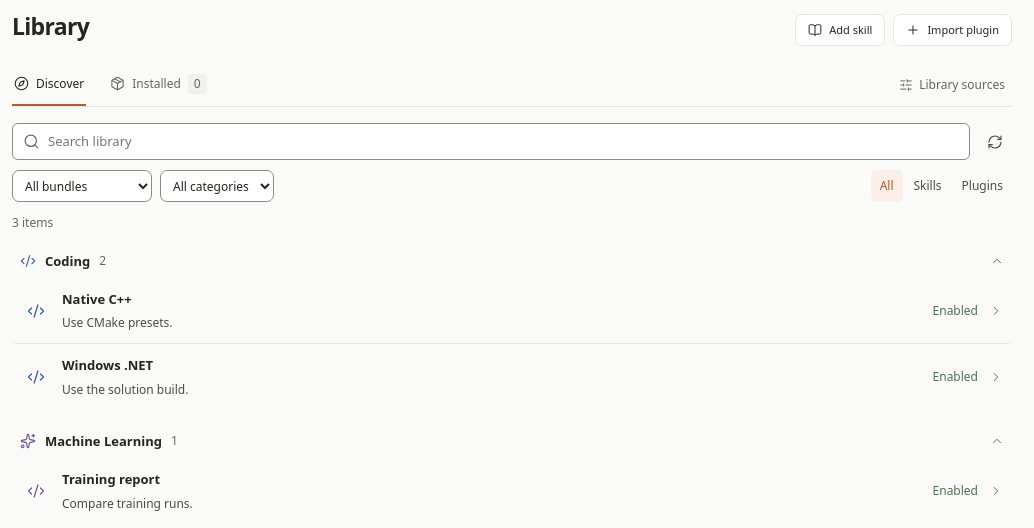
Library presentation preserves explicit workflows › shares Coding aliases and exposes custom bundles without catalog reads on filter changes
expect the heading "Native C++" is shown: met, box [62, 290, 132, 309]
expect the number of buttons named "Coding bundle" is 1: met, box [12, 244, 1012, 278]
Select "Coding" in the dropdown named "Workflow bundle" at (82,186), box [12, 170, 152, 202]
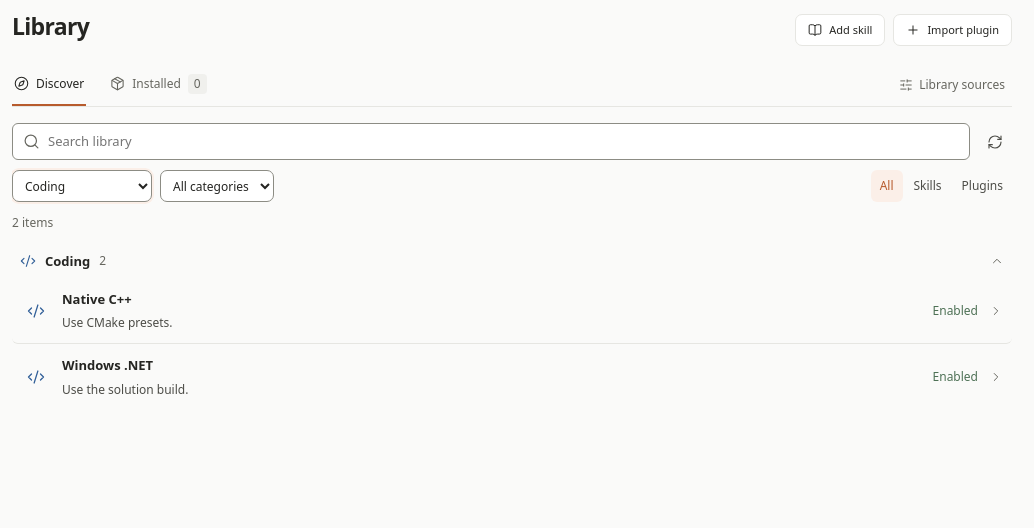
expect the heading "Windows .NET" is shown: met, box [62, 356, 153, 376]
expect the button "Training report" is gone: met
Click the button with aria-label "Coding bundle" at (68,261), box [12, 244, 1012, 278]
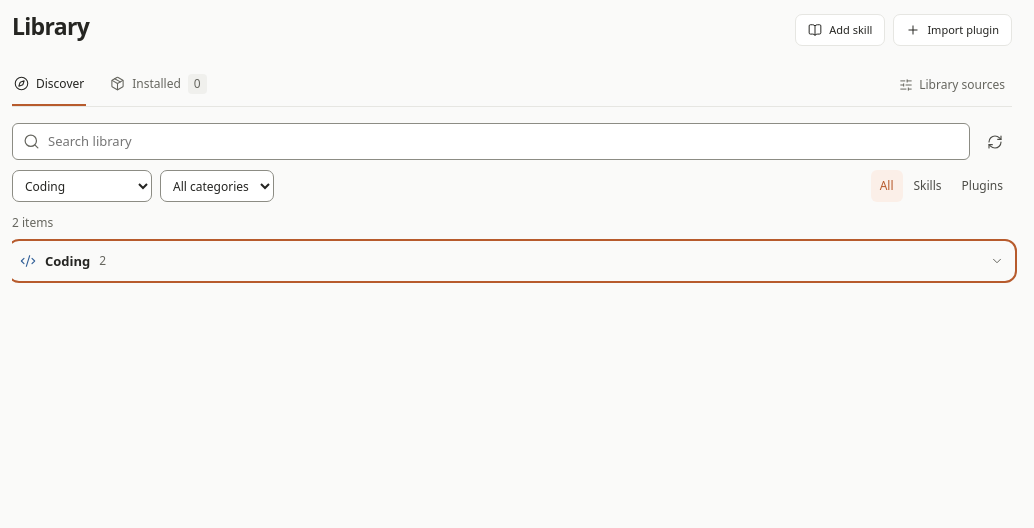
expect the button "Native C++" is gone: met
Type "cmake" into the field labelled "Search library" at (504,142), box [48, 132, 959, 151]
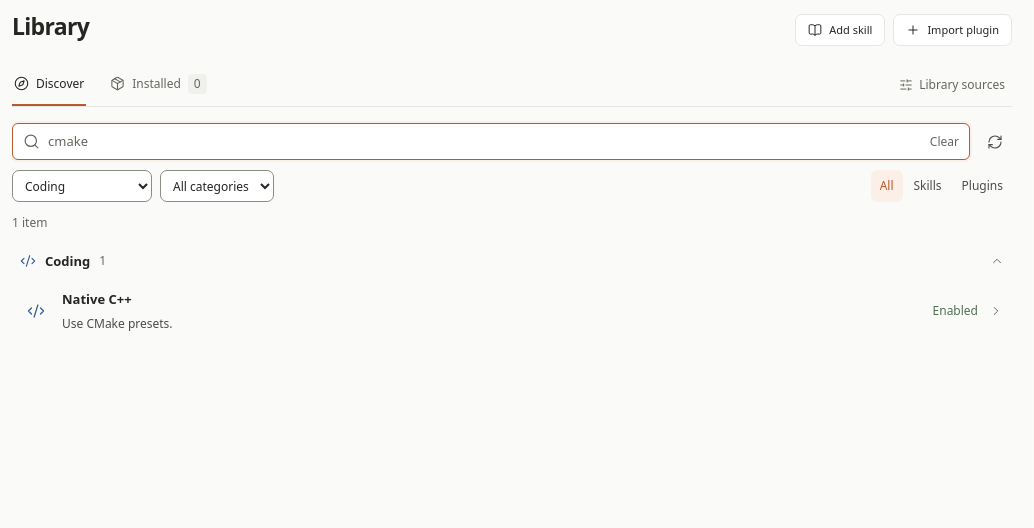
expect the heading "Native C++" is shown: met, box [62, 290, 132, 310]
Clear the field named "Search library" at (485,142), box [48, 132, 922, 151]
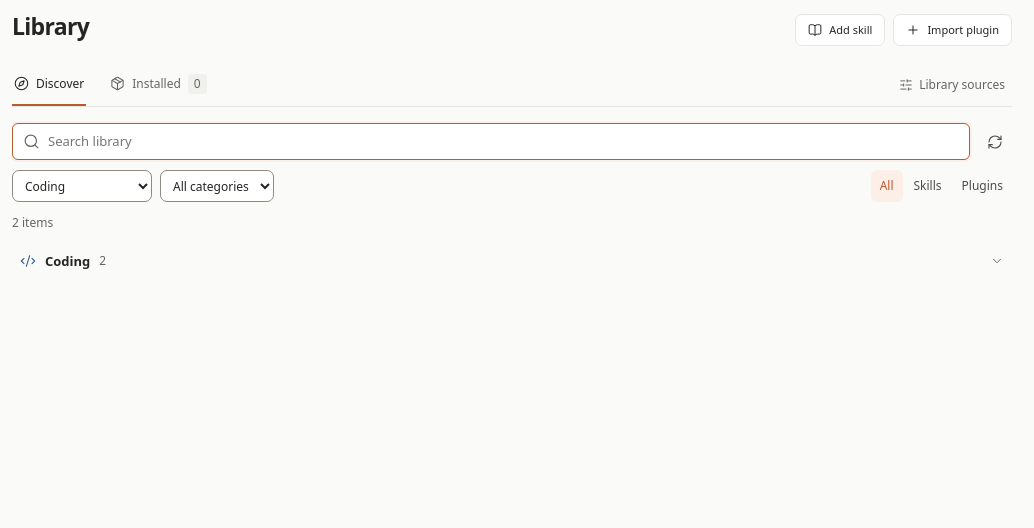
Select "Machine Learning" in the dropdown named "Workflow bundle" at (82,186), box [12, 170, 152, 202]
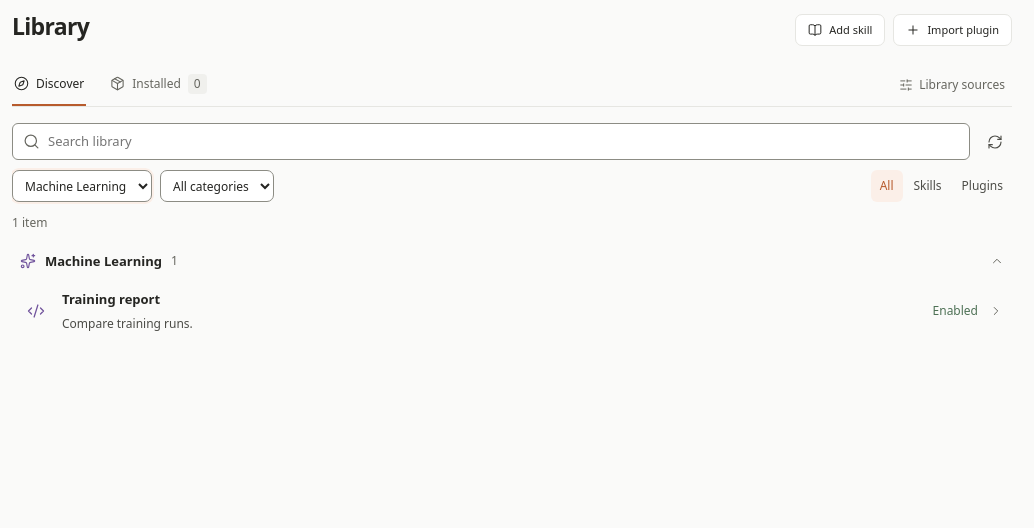
expect the heading "Training report" is shown: met, box [62, 290, 160, 310]
